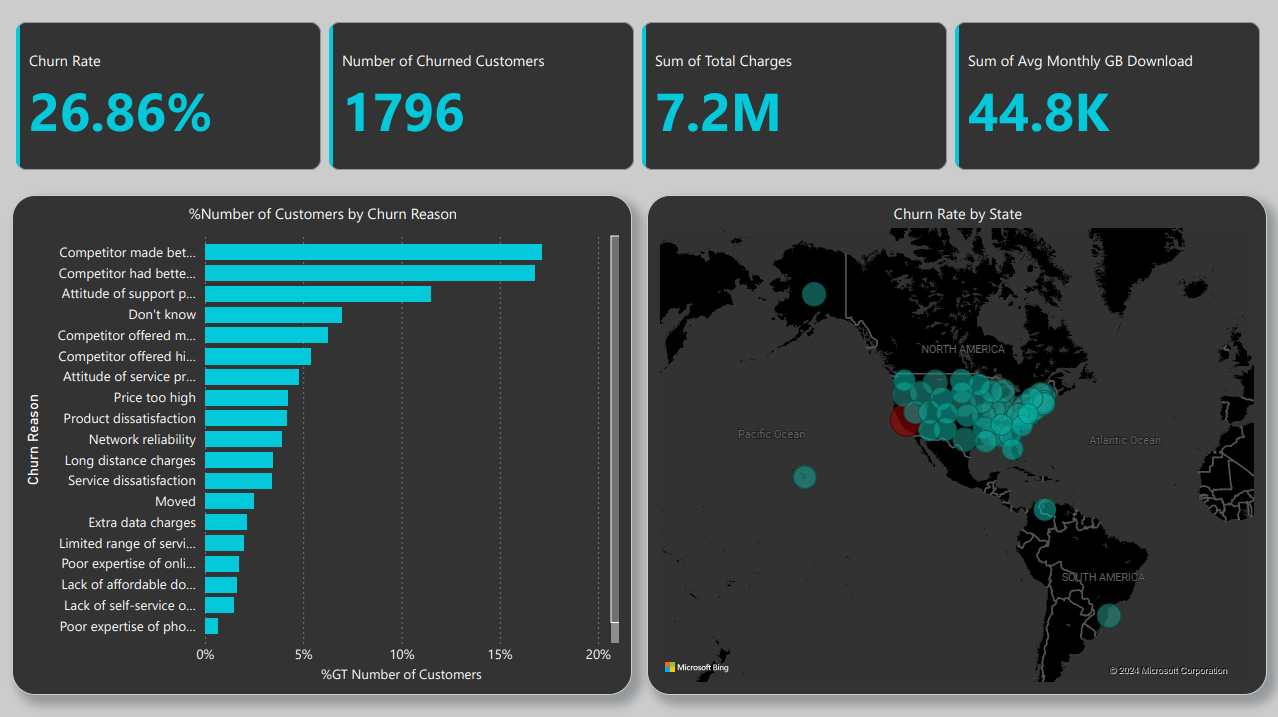

The dashboard page shown, as its layout file describes it:
{"tool":"powerbi","page":{"name":"Overview","canvas":[1280,720],"ordinal":0},"visuals":[{"type":"cardVisual","fields":{"Data":["Databel - Data.Churn Rate","Databel - Data.Number of Churned Customers","Sum(Databel - Data.Total Charges)","Sum(Databel - Data.Avg Monthly GB Download)"]},"box":[11.2,17.5,1256.2,158.8],"z":0},{"type":"clusteredBarChart","title":"%Number of Customers by Churn Reason","fields":{"Category":["Databel - Data.Churn Reason"],"Y":["Databel - Data.Number of Customers"]},"box":[11.6,195.8,620,500],"z":1000},{"type":"map","fields":{"Size":["Databel - Data.Churn Rate"],"Category":["Databel - Data.State"]},"box":[647.4,195.8,620,500],"z":2000}]}

Visuals, with their boxes in screenshot pixels (x1, y1, x2, y2), scaled from the page's 1280x720 canvas onto the 1278x717 screenshot:
cardVisual - Databel - Data.Churn Rate x Databel - Data.Number of Churned Customers: 11:17:1265:176
"%Number of Customers by Churn Reason" clusteredBarChart: 12:195:631:693
map - Databel - Data.Churn Rate x Databel - Data.State: 646:195:1265:693
